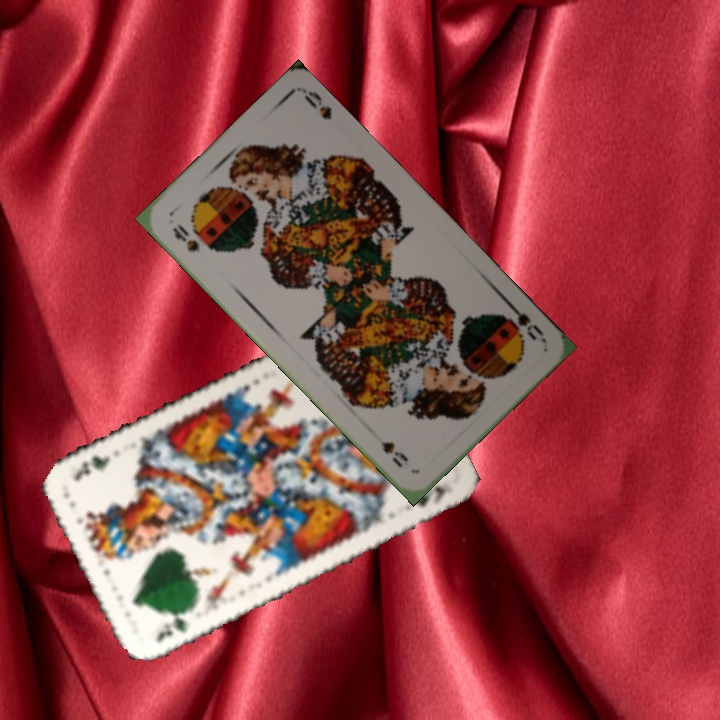GK: (151, 606, 192, 646)
SO: (497, 296, 547, 344), (168, 219, 203, 255)
